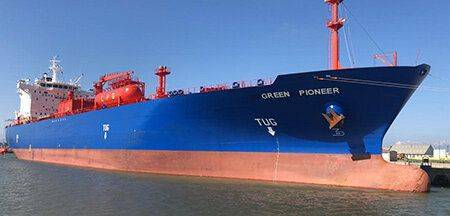Cargoship: (2, 1, 439, 193)
